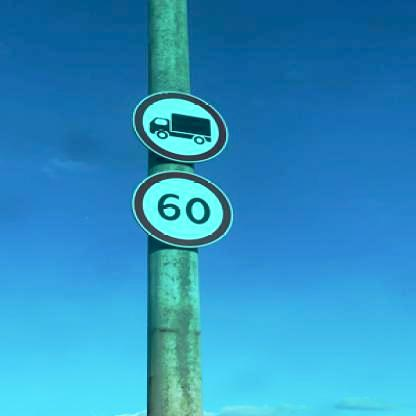Speed Limit -60-: (131, 168, 235, 248)
